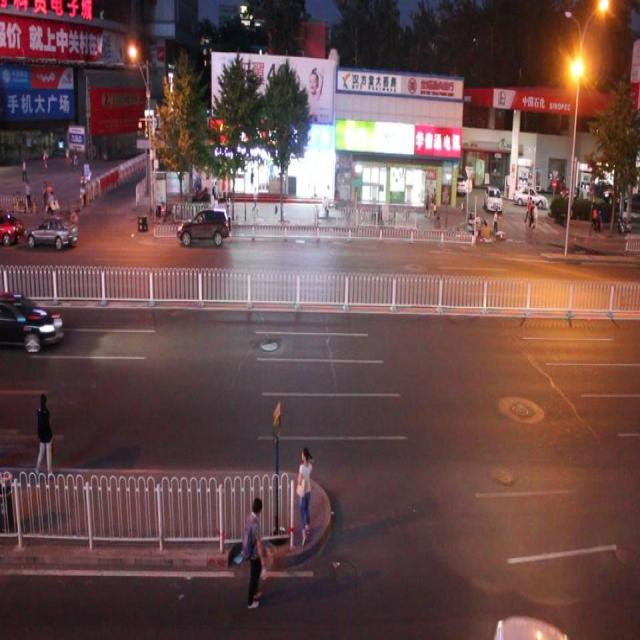car: (0, 292, 62, 353), (177, 205, 230, 247), (24, 213, 80, 252)
